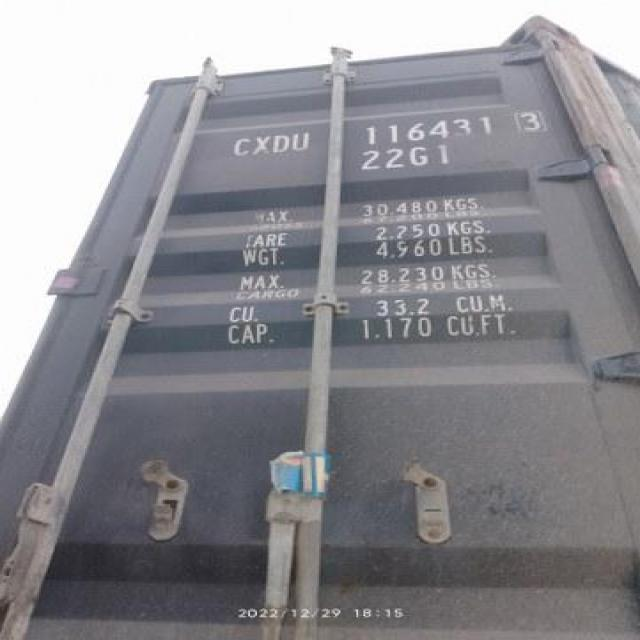container_number_h: (171, 103, 594, 192)
